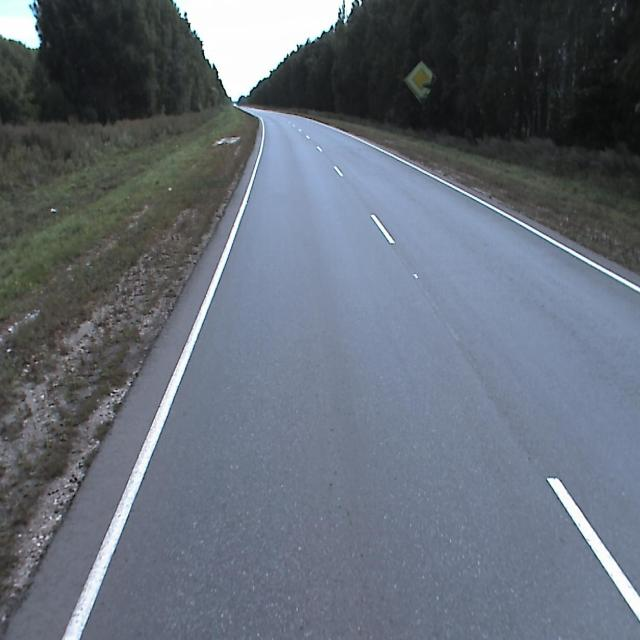road: (5, 111, 639, 639)
